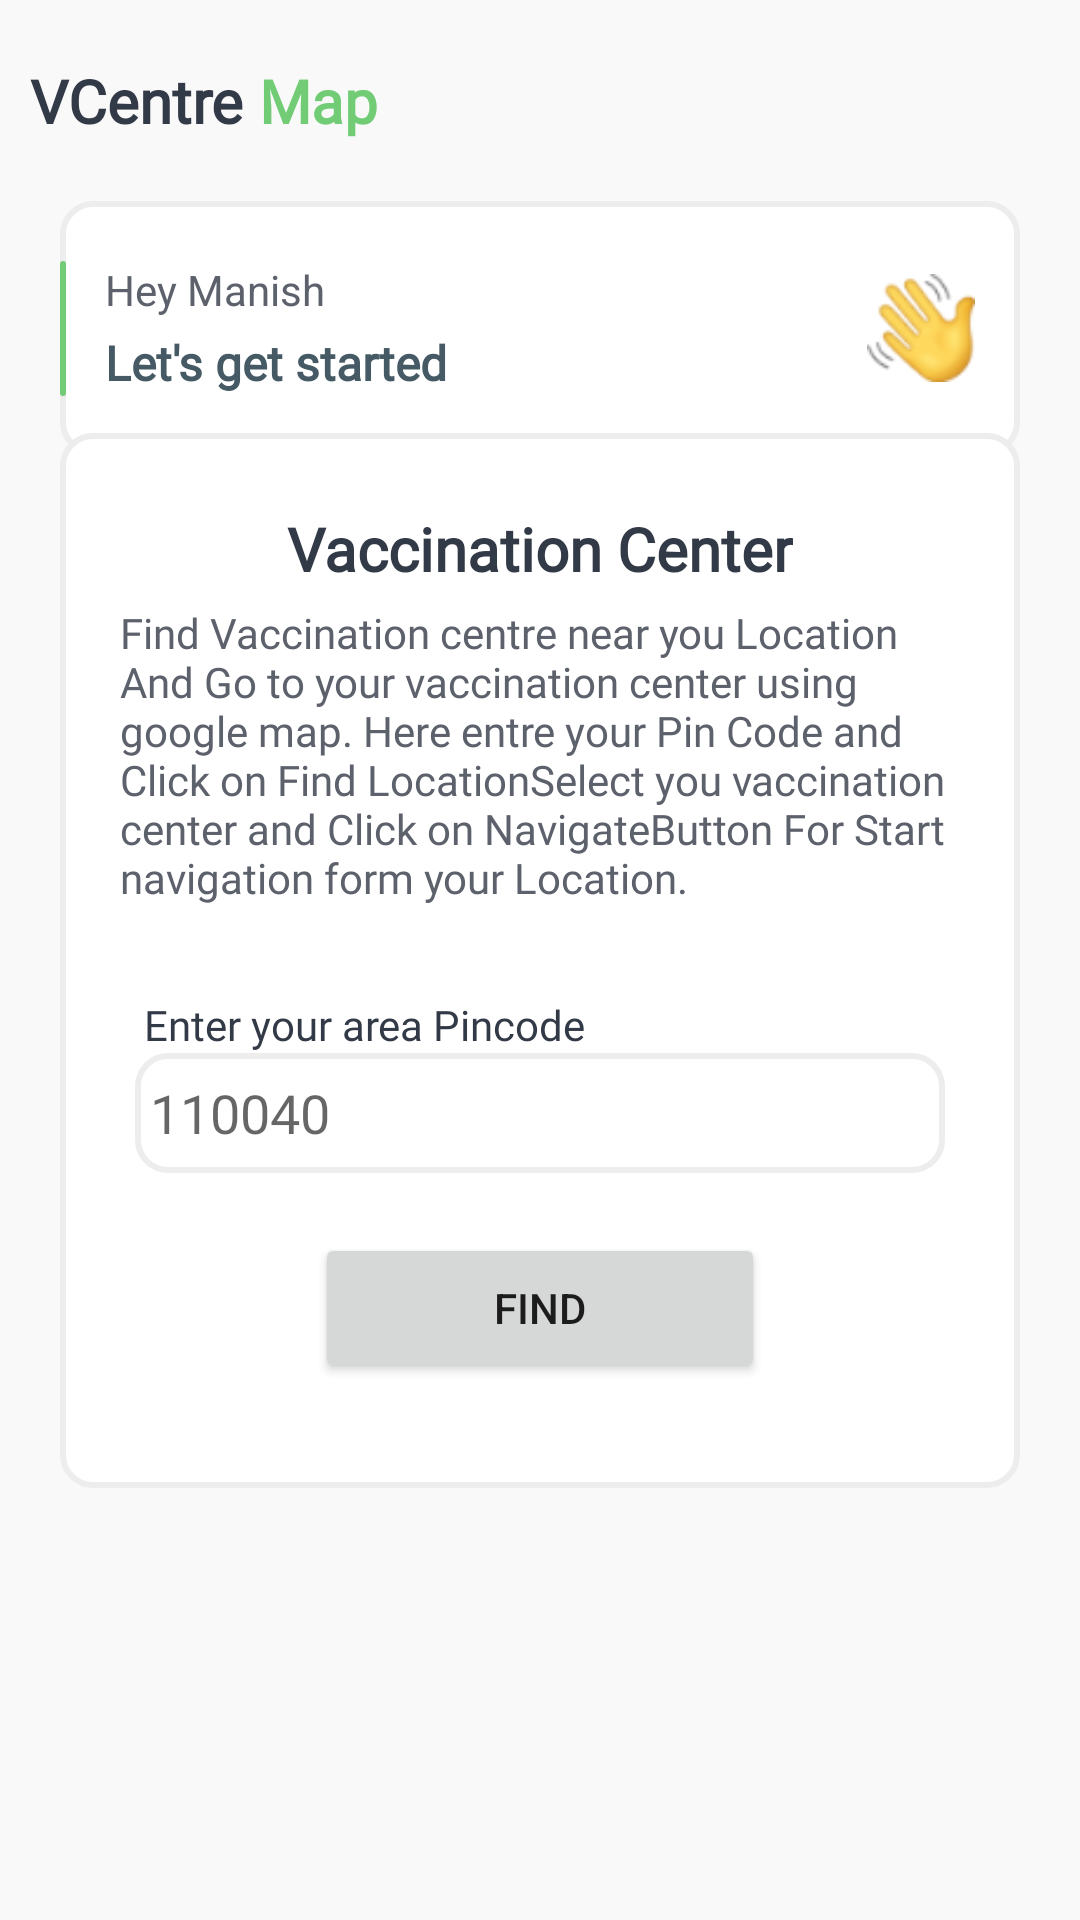

Where to tap for icons on this 1080 x 1920 app screen, as [x,y]:
wave in: [921,328]
